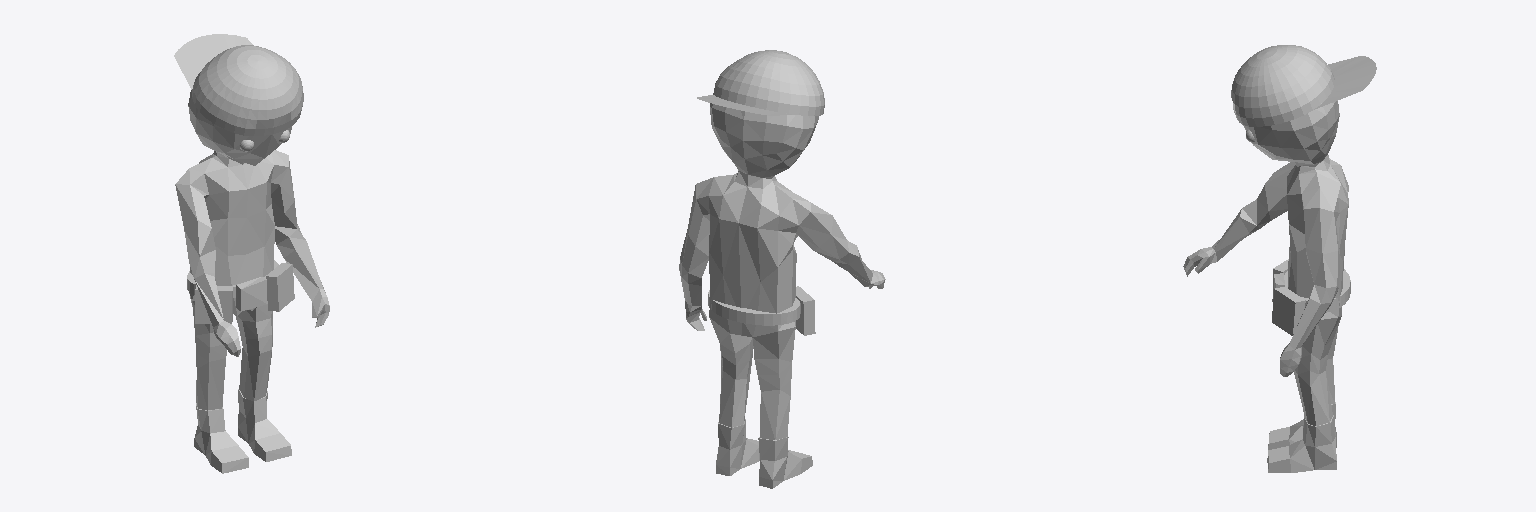
File: Main_Character_Pickup_Paint_8.obj
3 renders of one model, left to right at view 1: azimuth 30°, elevation 25°; view 2: azimuth 150°, elevation 25°; view 3: azimuth 270°, elevation 25°, orthographic.
Parts seen in each view (by area): view 1: Main_Character_Test.003_Main_Character_Test.004; view 2: Main_Character_Test.003_Main_Character_Test.004; view 3: Main_Character_Test.003_Main_Character_Test.004.
Boxes of the visible parts, x1=… form: Main_Character_Test.003_Main_Character_Test.004: x1=174, y1=34, x2=329, y2=473; Main_Character_Test.003_Main_Character_Test.004: x1=679, y1=50, x2=885, y2=488; Main_Character_Test.003_Main_Character_Test.004: x1=1183, y1=45, x2=1376, y2=472.
Bounding box in the file's own units: 1.54 × 3.93 × 1.69.